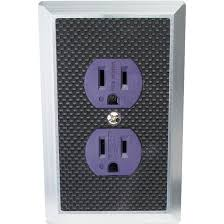outlet: (95, 65, 130, 108), (96, 135, 130, 174)
